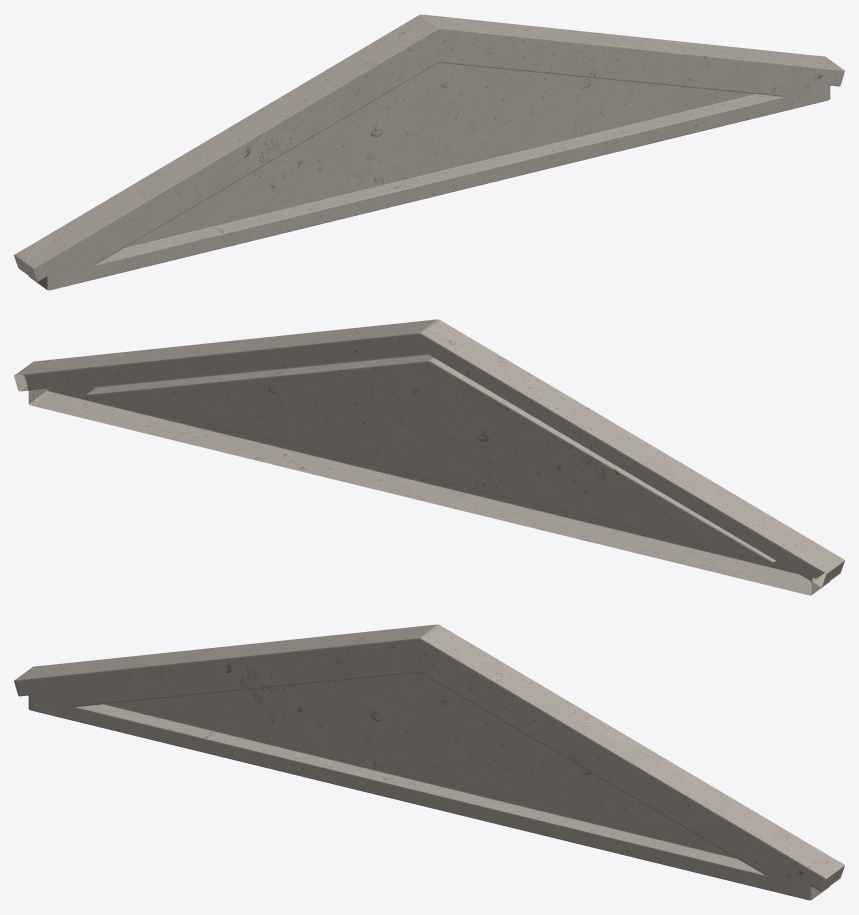
The model's file is GMP_roofpediment_01.fbx.
The picture shows the model from 3 angles, top to bottom: view 1: azimuth 30°, elevation 25°; view 2: azimuth 150°, elevation 25°; view 3: azimuth 330°, elevation 25°; orthographic projection.
Parts seen in each view (by area): view 1: end; view 2: end; view 3: end.
Boxes of the visible parts, x1,y1,x2,y2 form: end: (14, 14, 844, 290); end: (14, 319, 844, 595); end: (14, 624, 844, 900).
Bounding box in the file's own units: 12.45 × 2.45 × 0.5124.
